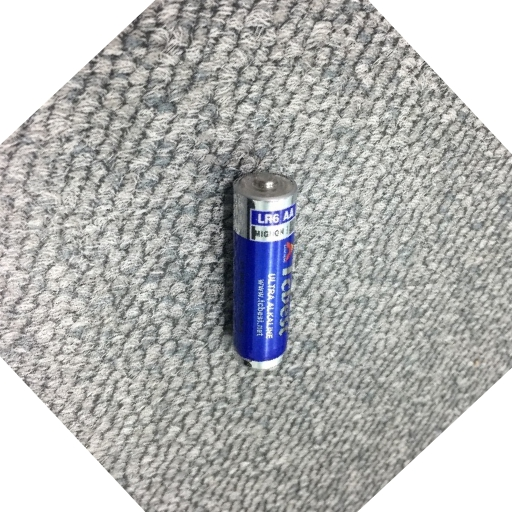Battery_0: (222, 158, 318, 393)
